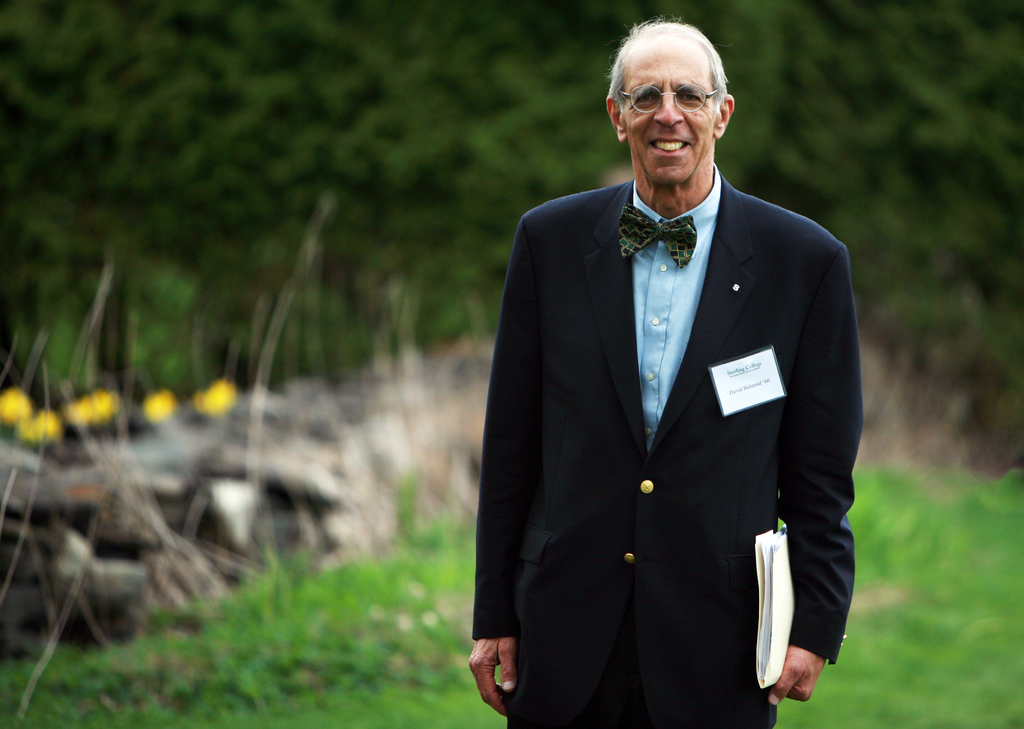Tree: (0, 0, 1023, 473)
